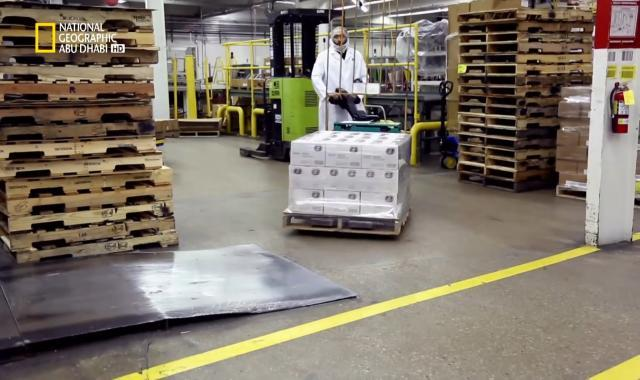Hairnet: (328, 25, 352, 33)
Mask: (331, 42, 350, 51)
No_Apron: (317, 49, 361, 128)
No_Glove: (328, 93, 340, 99)
